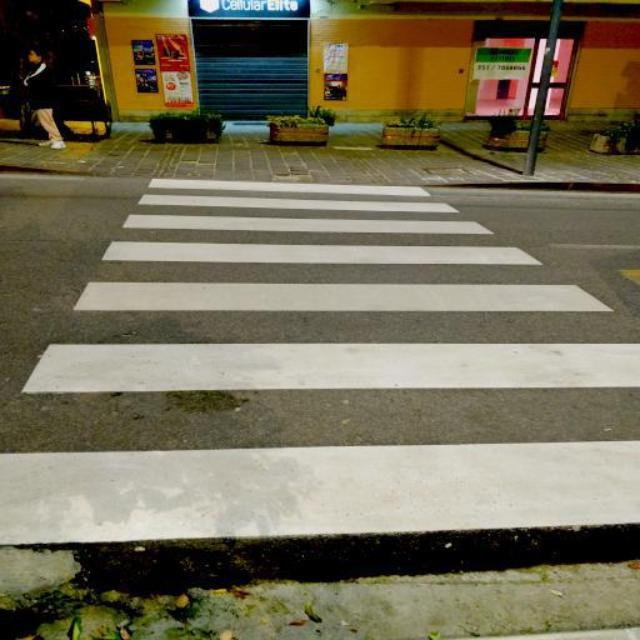sidewalk: (0, 172, 638, 640)
